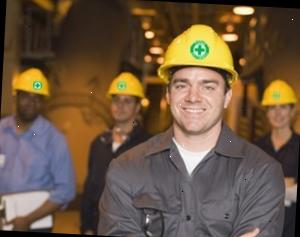helmet: (154, 20, 242, 87), (256, 76, 299, 108), (104, 70, 145, 100), (13, 65, 52, 96)
wear: (102, 138, 288, 237)
